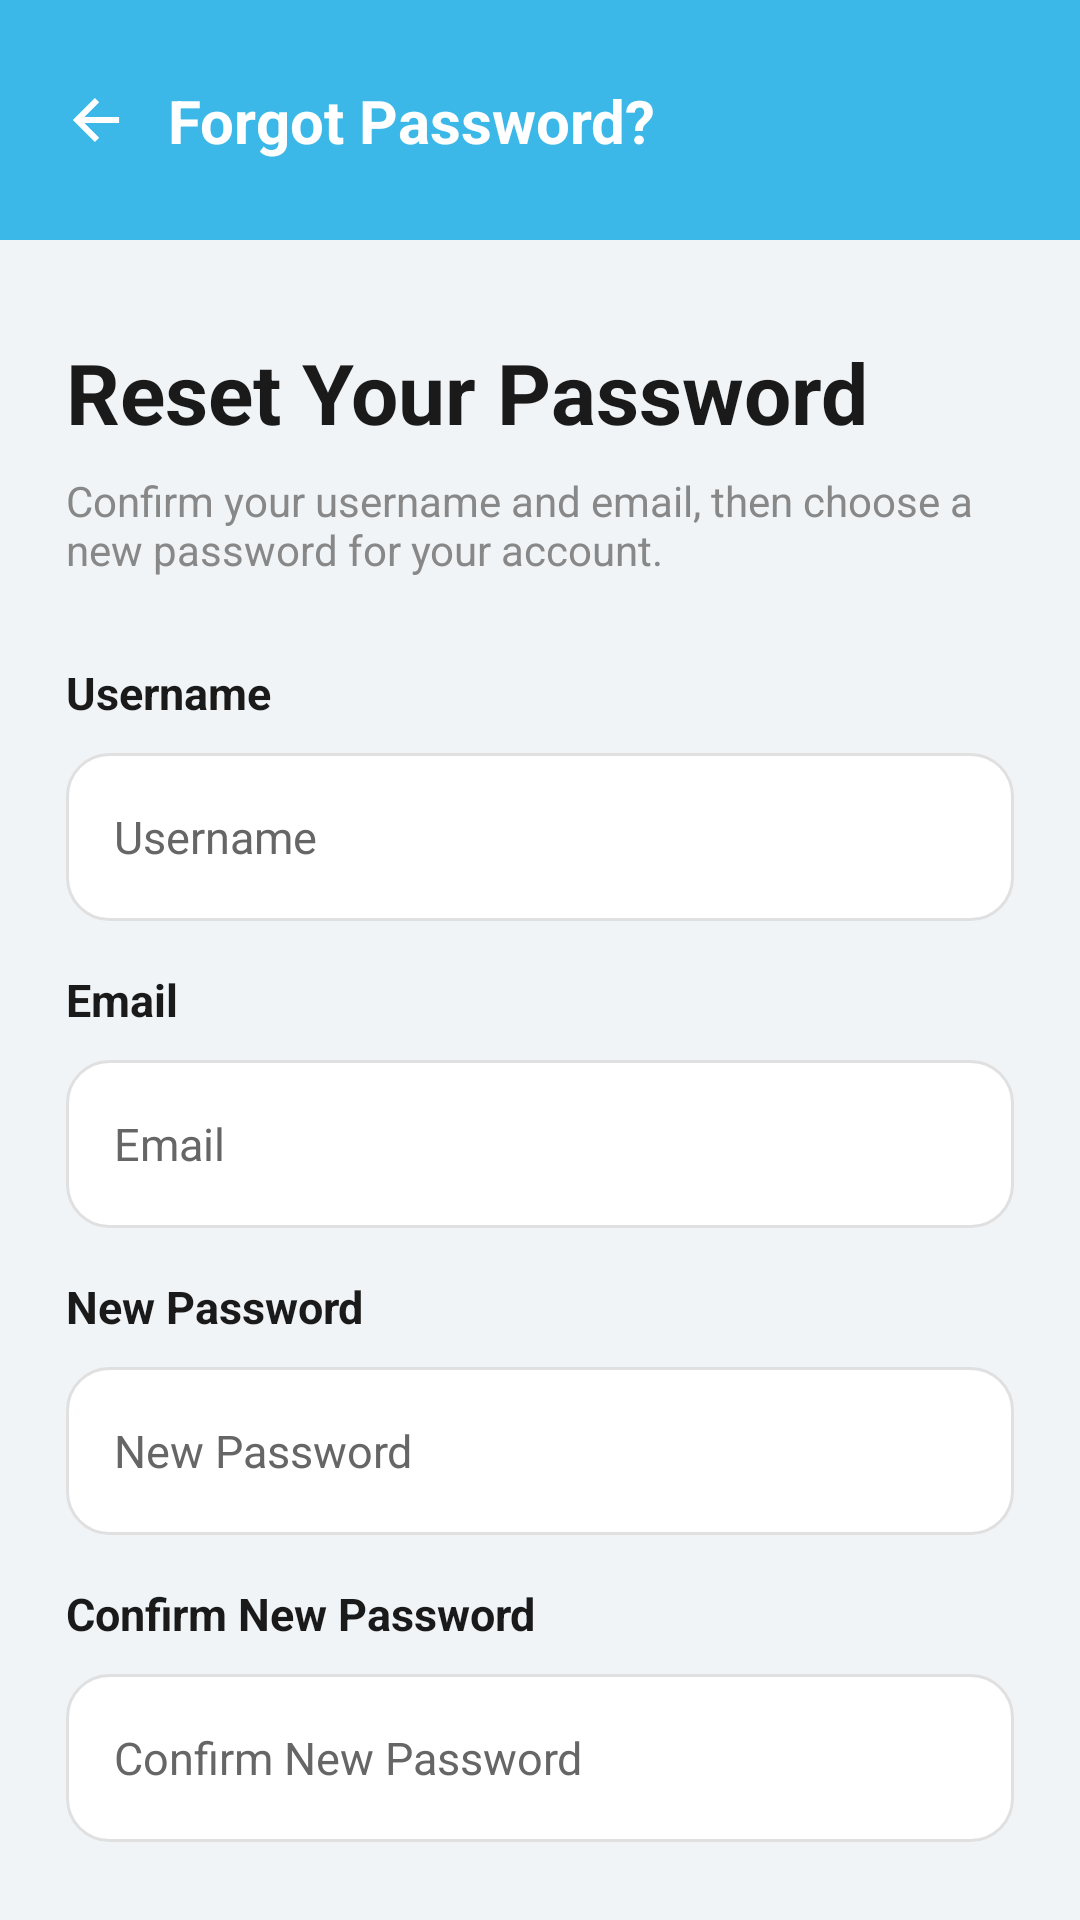

Icon click points for this 1080 x 1920 phone screenshot, format point (x, y):
Back: point (96, 120)
